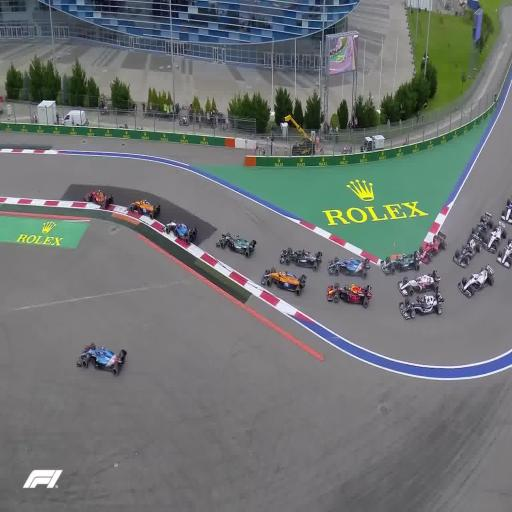f1_car: (77, 342, 127, 376), (399, 291, 444, 319), (261, 268, 306, 295), (458, 264, 494, 297), (326, 282, 371, 308), (398, 269, 441, 296), (279, 247, 322, 270), (215, 233, 256, 257), (381, 250, 420, 274), (327, 256, 370, 277), (419, 231, 446, 263), (453, 237, 480, 267), (482, 220, 506, 253), (163, 220, 197, 243), (470, 212, 493, 243), (128, 199, 160, 218), (83, 189, 113, 209), (497, 239, 512, 268), (501, 197, 512, 223)
